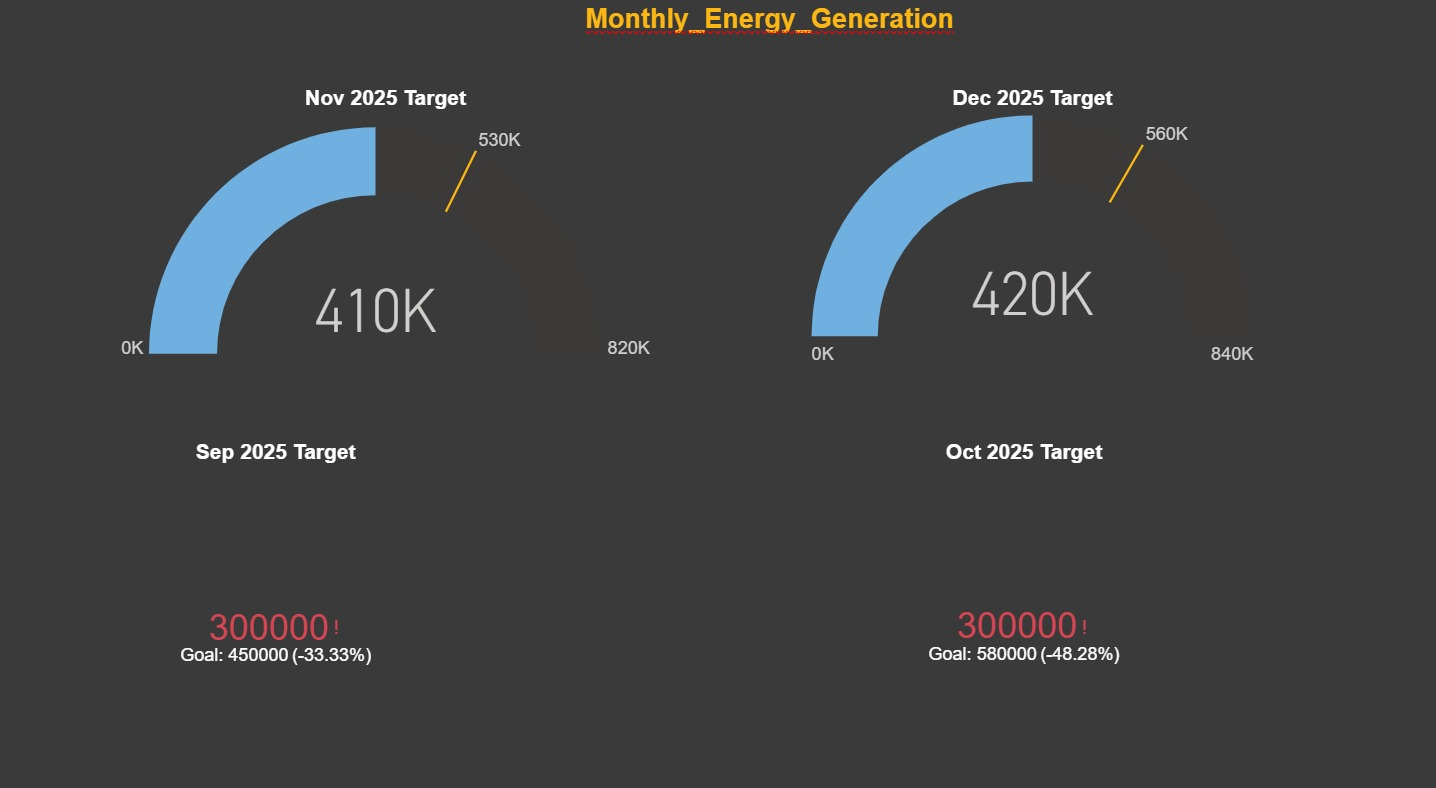

Layout of this report page (visuals, bound fields, positions):
{"tool":"powerbi","page":{"name":"Page 1","canvas":[1280,720],"ordinal":0},"visuals":[{"type":"kpi","title":"Sep 2025 Target ","fields":{"Indicator":["Sum(Raw_Data (2).Energy)"],"Goal":["Raw_Data (2).Sep 2025 Target"],"TrendLine":["Raw_Data (2).Month"]},"box":[11,392.7,467.6,327.7],"z":0},{"type":"kpi","title":"Oct 2025 Target ","fields":{"Indicator":["Sum(Raw_Data (2).Energy)"],"Goal":["Raw_Data (2).Oct 2025  Target"],"TrendLine":["Raw_Data (2).Month"]},"box":[683.5,392.7,448.6,326.7],"z":1},{"type":"gauge","title":"Nov 2025 Target","fields":{"Y":["Sum(Raw_Data (2).Energy)"],"TargetValue":["Raw_Data (2).Nov 2025 Target"]},"box":[97.9,78.9,488.6,253.8],"z":2},{"type":"gauge","title":" Dec 2025 Target ","fields":{"Y":["Sum(Raw_Data (2).Energy)"],"TargetValue":["Raw_Data (2).Dec 2025 Target"]},"box":[683.5,78.9,463.6,253.8],"z":3},{"type":"textbox","box":[456.6,1,451.6,50],"z":4}]}

Visuals, with their boxes in screenshot pixels (x1, y1, x2, y2), scaled from the page's 1280x720 canvas onto the 1436x788 screenshot:
"Sep 2025 Target " kpi: bbox(12, 430, 537, 787)
"Oct 2025 Target " kpi: bbox(767, 430, 1270, 787)
"Nov 2025 Target" gauge: bbox(110, 86, 658, 364)
" Dec 2025 Target " gauge: bbox(767, 86, 1287, 364)
textbox: bbox(512, 1, 1019, 56)
